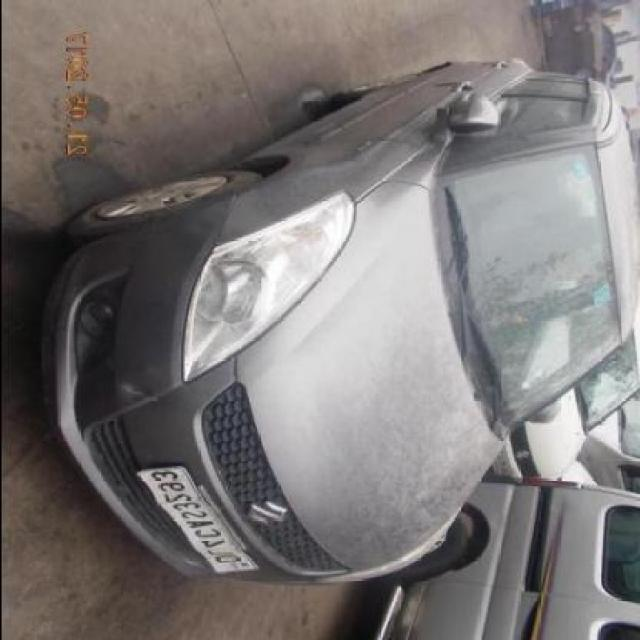damage: (115, 377, 161, 402)
